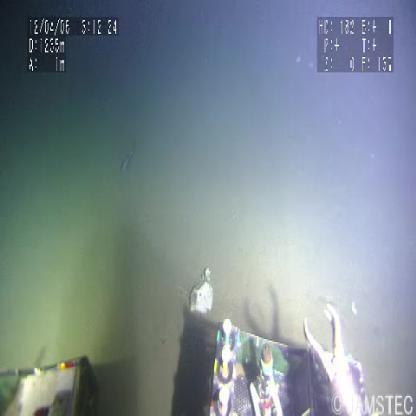Rác: (186, 268, 216, 324)
